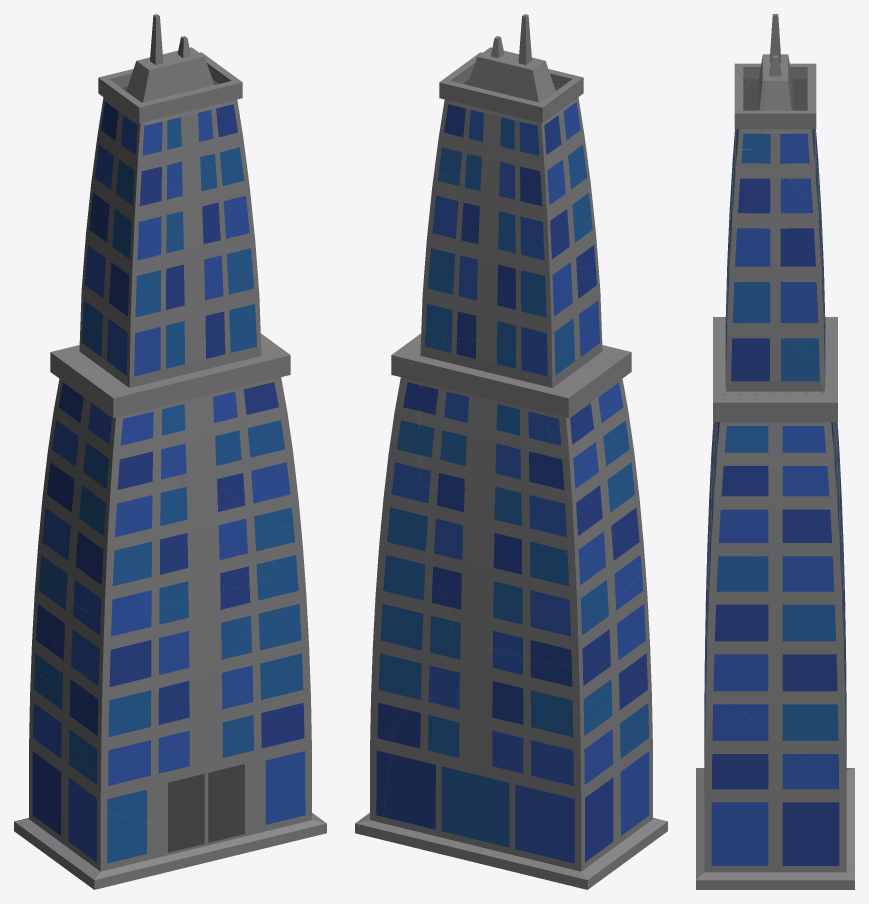
Rendered from HighHouse 3.3 Fractured.fbx.
The picture shows the model from 3 angles, left to right: view 1: azimuth 30°, elevation 25°; view 2: azimuth 150°, elevation 25°; view 3: azimuth 270°, elevation 25°; orthographic projection.
Visible parts, largest first — view 1: HighHouse_3_03_Breaking_cell.012, HighHouse_3_03_Breaking_cell.010, HighHouse_3_03_Breaking_cell.001, HighHouse_3_03_Breaking_cell.017, HighHouse_3_03_Breaking_cell.015, HighHouse_3_03_Breaking_cell.018, HighHouse_3_03_Breaking_cell.013, HighHouse_3_03_Breaking_cell.007, HighHouse_3_03_Breaking_cell.005, HighHouse_3_03_Breaking_cell.004, HighHouse_3_03_Breaking_cell, HighHouse_3_03_Breaking_cell.002 (+7 smaller); view 2: HighHouse_3_03_Breaking_cell.016, HighHouse_3_03_Breaking_cell.003, HighHouse_3_03_Breaking_cell, HighHouse_3_03_Breaking_cell.017, HighHouse_3_03_Breaking_cell.009, HighHouse_3_03_Breaking_cell.006, HighHouse_3_03_Breaking_cell.011, HighHouse_3_03_Breaking_cell.015, HighHouse_3_03_Breaking_cell.019, HighHouse_3_03_Breaking_cell.008, HighHouse_3_03_Breaking_cell.010, HighHouse_3_03_Breaking_cell.005 (+4 smaller); view 3: HighHouse_3_03_Breaking_cell.006, HighHouse_3_03_Breaking_cell.012, HighHouse_3_03_Breaking_cell.004, HighHouse_3_03_Breaking_cell, HighHouse_3_03_Breaking_cell.011, HighHouse_3_03_Breaking_cell.013, HighHouse_3_03_Breaking_cell.001, HighHouse_3_03_Breaking_cell.014, HighHouse_3_03_Breaking_cell.009, HighHouse_3_03_Breaking_cell.017, HighHouse_3_03_Breaking_cell.016, HighHouse_3_03_Breaking_cell.003 (+1 smaller).
Part boxes in pixels (box(x1,y1,x2,y2)): HighHouse_3_03_Breaking_cell.012: box(156, 616, 326, 871); HighHouse_3_03_Breaking_cell.010: box(53, 604, 211, 824); HighHouse_3_03_Breaking_cell.001: box(125, 272, 274, 489); HighHouse_3_03_Breaking_cell.017: box(14, 669, 167, 889); HighHouse_3_03_Breaking_cell.015: box(88, 86, 189, 314); HighHouse_3_03_Breaking_cell.018: box(116, 488, 283, 616); HighHouse_3_03_Breaking_cell.013: box(139, 105, 256, 257); HighHouse_3_03_Breaking_cell.007: box(78, 328, 183, 496); HighHouse_3_03_Breaking_cell.005: box(64, 475, 186, 621); HighHouse_3_03_Breaking_cell.004: box(220, 333, 300, 526); HighHouse_3_03_Breaking_cell: box(81, 216, 257, 328); HighHouse_3_03_Breaking_cell.002: box(119, 580, 267, 672); HighHouse_3_03_Breaking_cell.016: box(368, 642, 613, 861); HighHouse_3_03_Breaking_cell.003: box(410, 486, 615, 668); HighHouse_3_03_Breaking_cell: box(421, 170, 600, 341); HighHouse_3_03_Breaking_cell.017: box(471, 696, 667, 889); HighHouse_3_03_Breaking_cell.009: box(410, 337, 559, 502); HighHouse_3_03_Breaking_cell.006: box(370, 487, 457, 738); HighHouse_3_03_Breaking_cell.011: box(434, 14, 581, 174); HighHouse_3_03_Breaking_cell.015: box(486, 78, 599, 279); HighHouse_3_03_Breaking_cell.019: box(510, 305, 606, 456); HighHouse_3_03_Breaking_cell.008: box(509, 438, 605, 561); HighHouse_3_03_Breaking_cell.010: box(598, 572, 652, 757); HighHouse_3_03_Breaking_cell.005: box(598, 452, 645, 598); HighHouse_3_03_Breaking_cell.006: box(706, 531, 846, 790); HighHouse_3_03_Breaking_cell.012: box(696, 640, 854, 889); HighHouse_3_03_Breaking_cell.004: box(710, 392, 839, 572); HighHouse_3_03_Breaking_cell: box(727, 168, 824, 362); HighHouse_3_03_Breaking_cell.011: box(736, 14, 817, 205); HighHouse_3_03_Breaking_cell.013: box(728, 63, 817, 291); HighHouse_3_03_Breaking_cell.001: box(713, 270, 833, 478); HighHouse_3_03_Breaking_cell.014: box(734, 68, 767, 149); HighHouse_3_03_Breaking_cell.009: box(824, 319, 838, 508); HighHouse_3_03_Breaking_cell.017: box(696, 637, 854, 820); HighHouse_3_03_Breaking_cell.016: box(844, 576, 854, 872); HighHouse_3_03_Breaking_cell.003: box(838, 465, 844, 624).
Size of the model in its own units: 583 by 1966 by 349.
